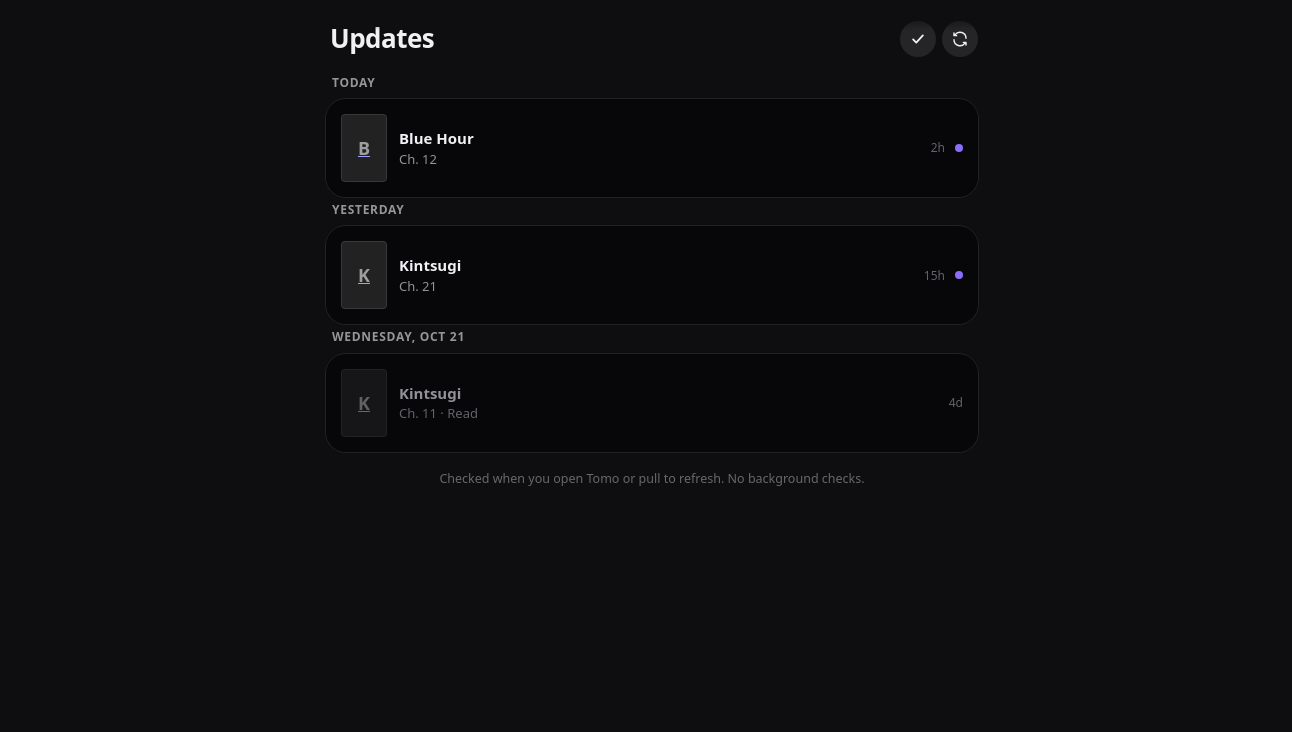
opens the chapter in the reader
Click the button with aria-label "Blue Hour, Ch. 12,". click: [436, 138]
box: [399,114,963,182]
(page scrolled)
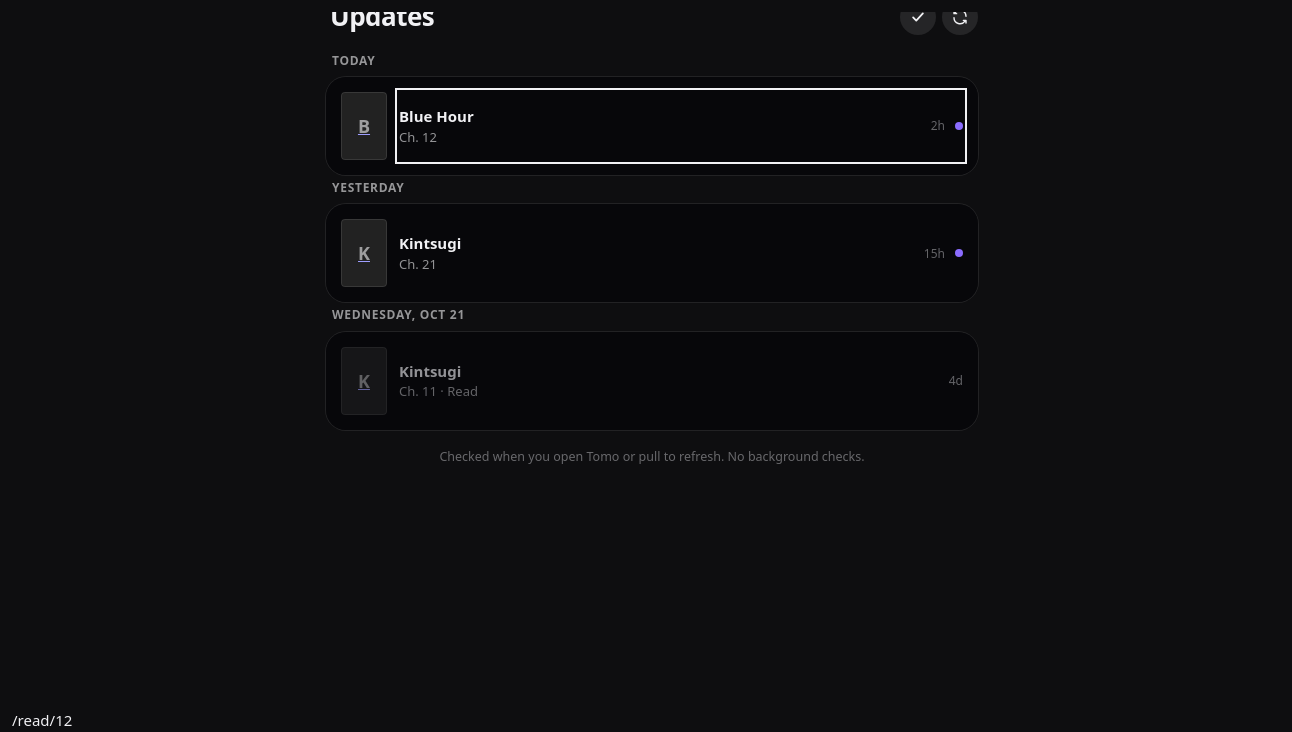
Now the text with test id "location" reads "/read/12", box [12,710,72,730]
